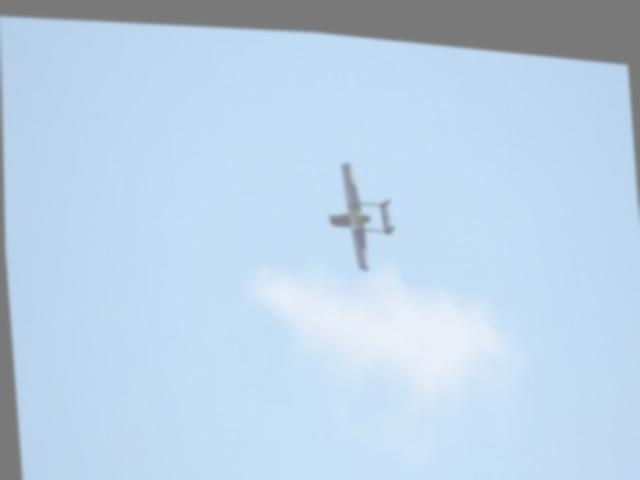uav: (324, 148, 398, 270)
